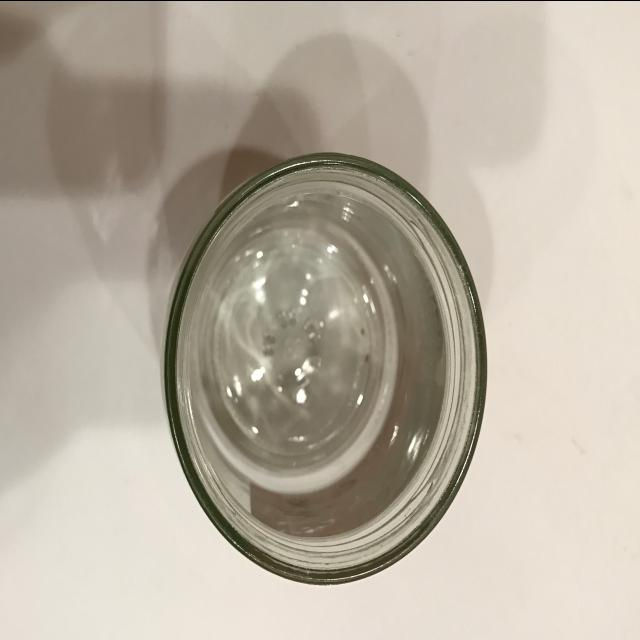glass: (144, 144, 494, 604)
